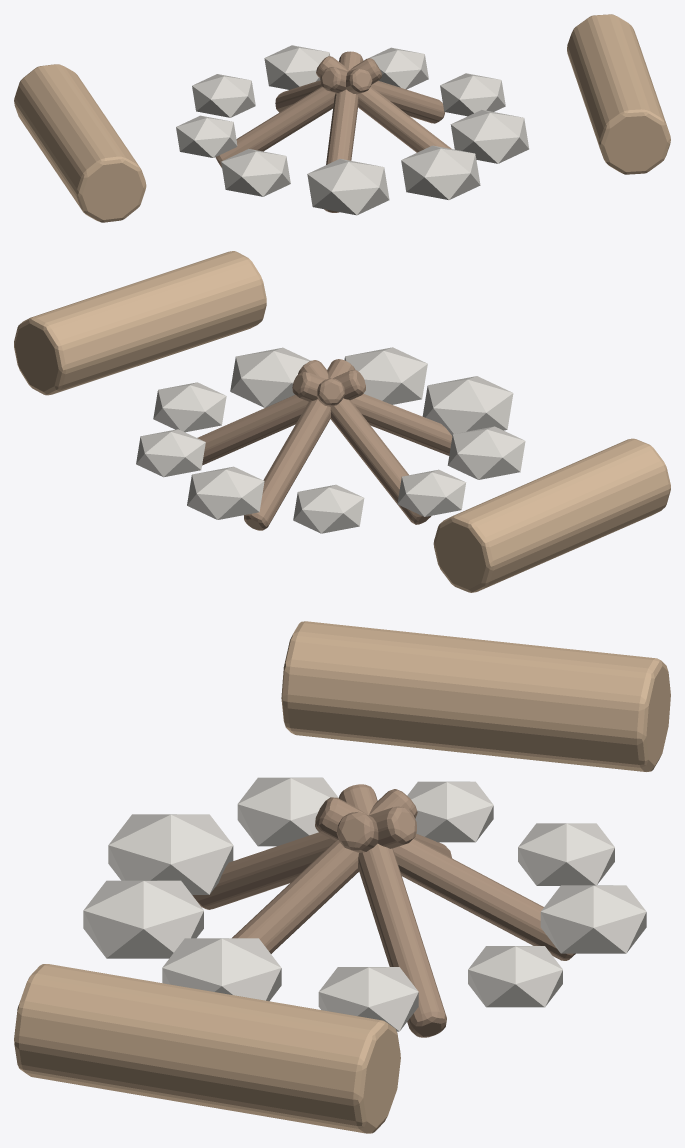
File: lm_campfire.glb
3 views of the same model, one above another, from view 1: azimuth 30°, elevation 25°; view 2: azimuth 150°, elevation 25°; view 3: azimuth 270°, elevation 25° (orthographic). The views are drawn at different scales.
Visible parts, largest first — view 1: lm_campfire; view 2: lm_campfire; view 3: lm_campfire.
Boxes of the visible parts, x1,y1,x2,y2 form: lm_campfire: [14, 14, 670, 222]; lm_campfire: [14, 251, 670, 592]; lm_campfire: [14, 621, 670, 1133].
Size of the model in its own units: 3.92 by 0.6513 by 2.44.
